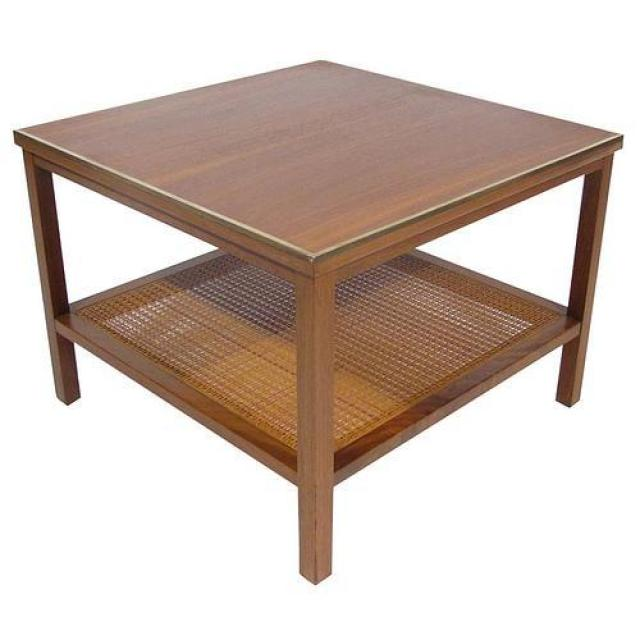table: (14, 60, 626, 589)
